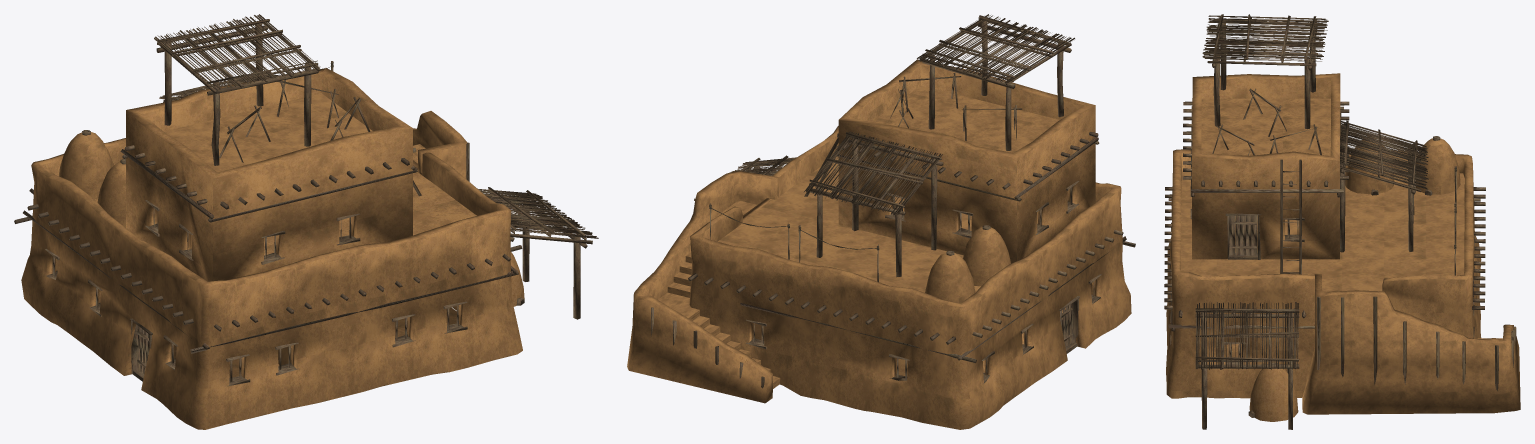
File: adb_house_9.glb
3 renders of one model, left to right at view 1: azimuth 30°, elevation 25°; view 2: azimuth 150°, elevation 25°; view 3: azimuth 270°, elevation 25°, orthographic. The views are drawn at different scales.
Parts seen in each view (by area): view 1: adb_house_9; view 2: adb_house_9; view 3: adb_house_9.
Part boxes in pixels (box(x1,y1,x2,y2)): adb_house_9: box(14, 14, 598, 429); adb_house_9: box(627, 14, 1135, 429); adb_house_9: box(1164, 14, 1520, 429).
Bounding box in the file's own units: 7.89 × 5.71 × 6.83.
Materials: 3 (3 with a texture image).
